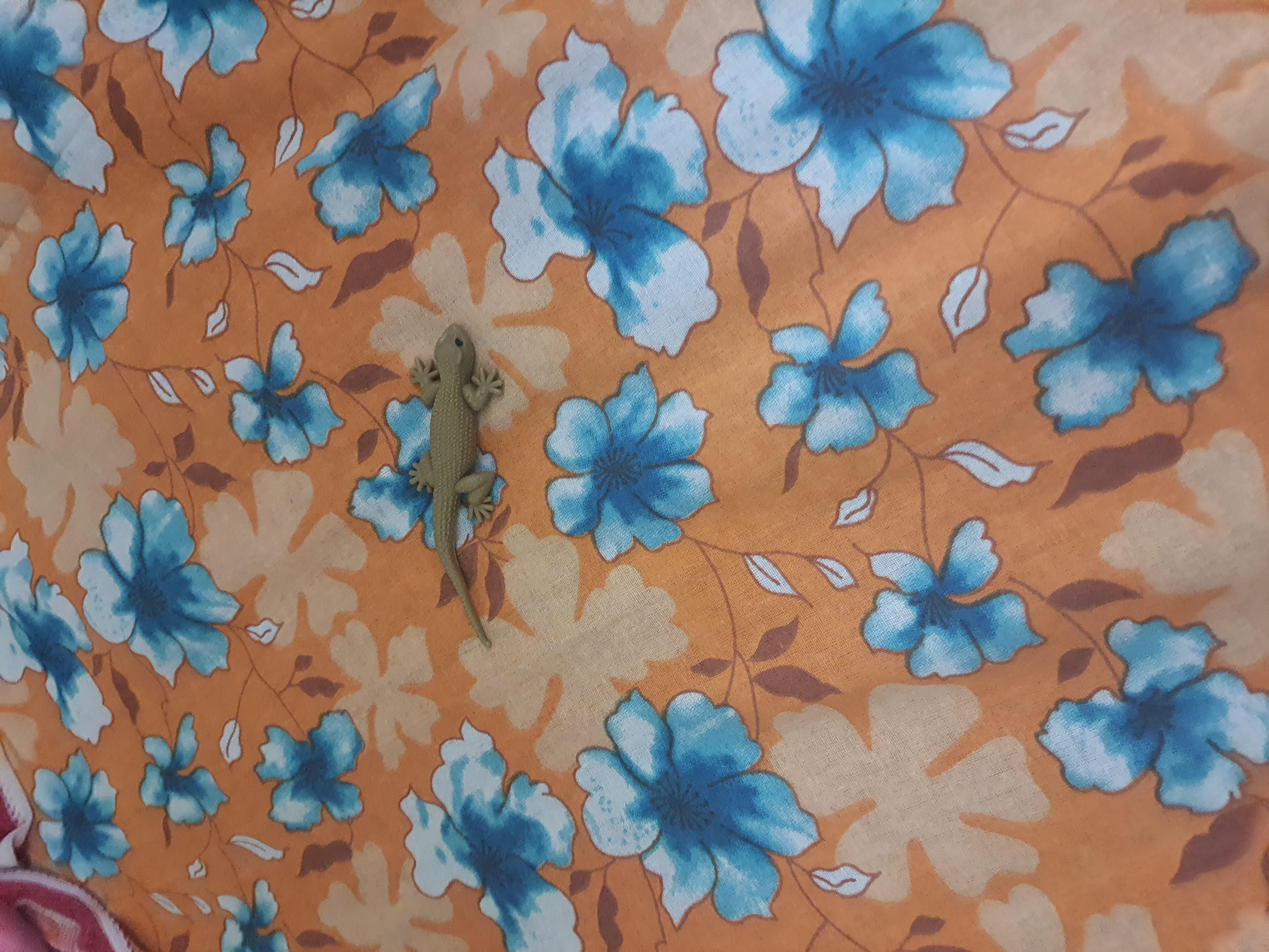lizard: (404, 283, 837, 389)
